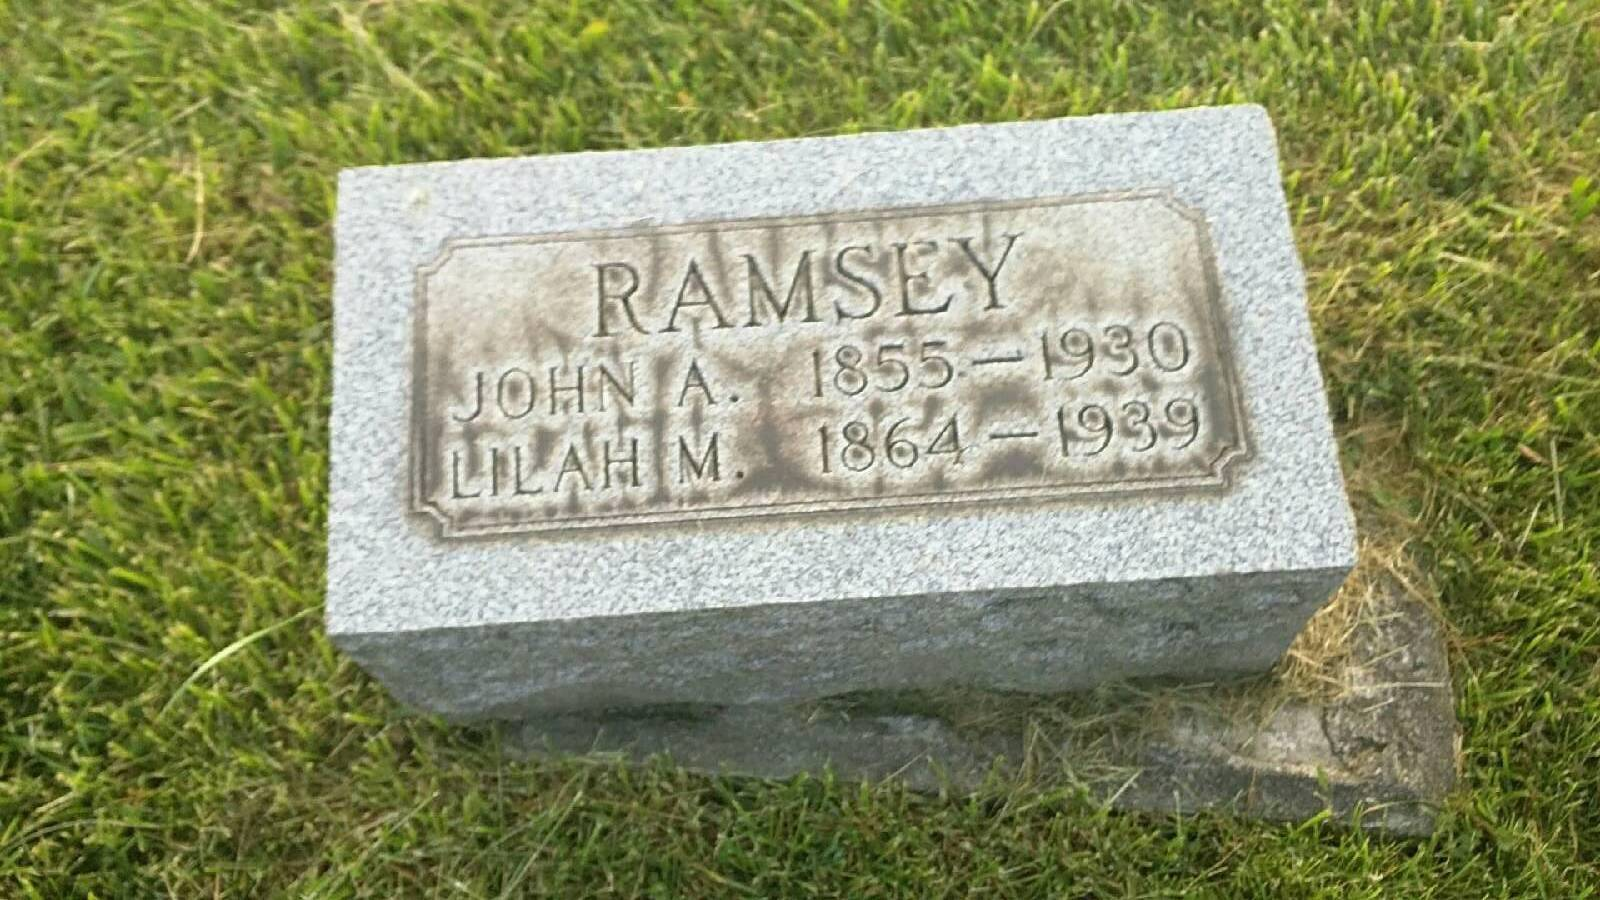flat: (300, 93, 1366, 733)
